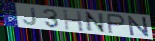3: (43, 8, 60, 29)
H: (62, 9, 85, 33)
J: (22, 7, 38, 26)
N: (83, 11, 107, 34), (127, 16, 151, 38)
P: (106, 13, 127, 35)
